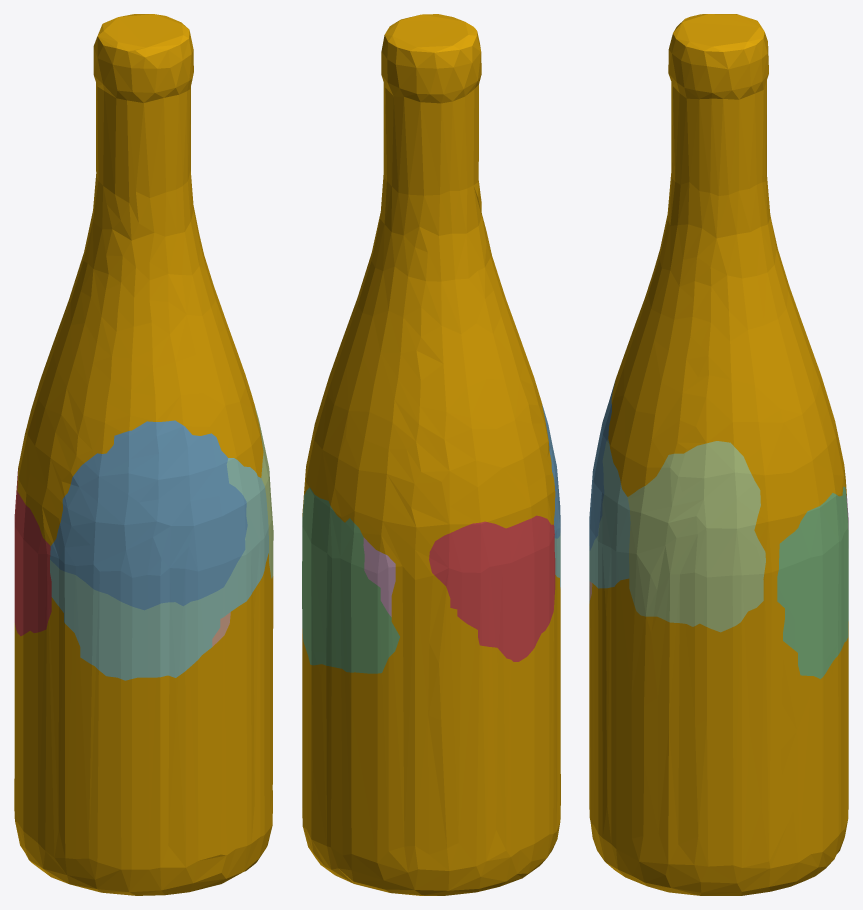
Rendered from mode_18_8pcs.glb.
3 views of the same model, side by side, from view 1: azimuth 30°, elevation 25°; view 2: azimuth 150°, elevation 25°; view 3: azimuth 270°, elevation 25° (orthographic).
Parts seen in each view (by area): view 1: piece_0.obj, piece_2.obj, piece_4.obj, piece_1.obj, piece_5.obj; view 2: piece_0.obj, piece_1.obj, piece_3.obj, piece_6.obj, piece_2.obj; view 3: piece_0.obj, piece_5.obj, piece_3.obj, piece_4.obj, piece_2.obj.
Part boxes in pixels (box(x1,y1,x2,y2)): piece_0.obj: box(14, 14, 273, 895); piece_2.obj: box(50, 420, 247, 610); piece_4.obj: box(50, 458, 268, 680); piece_1.obj: box(14, 468, 51, 636); piece_5.obj: box(255, 406, 273, 578); piece_0.obj: box(302, 14, 560, 895); piece_1.obj: box(429, 515, 555, 661); piece_3.obj: box(302, 487, 399, 673); piece_6.obj: box(363, 537, 395, 616); piece_2.obj: box(542, 405, 560, 538); piece_0.obj: box(589, 14, 848, 895); piece_5.obj: box(627, 441, 765, 632); piece_3.obj: box(777, 486, 848, 678); piece_4.obj: box(589, 439, 630, 603); piece_2.obj: box(589, 381, 615, 550).
Bounding box in the file's own units: 0.2867 × 1 × 0.2866.
